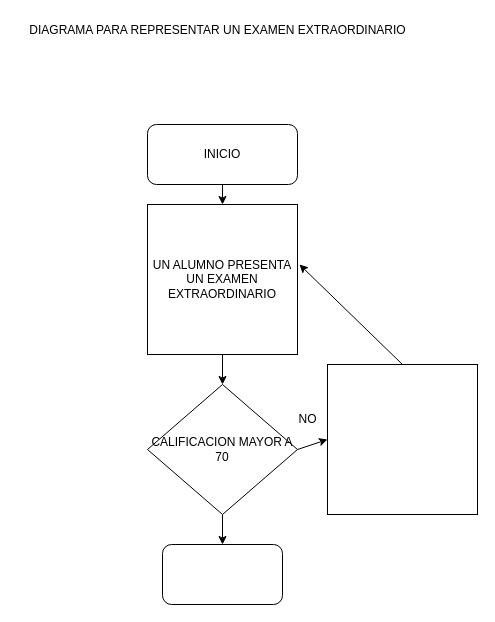
Image size: 495x622. Some labels were removed from this diagram. Each missing label, with the box of its shape:
FIN: (162, 544, 282, 604)
SOLICITE A CONSEJO UNA OPORTUNIDAD: (326, 364, 478, 514)
